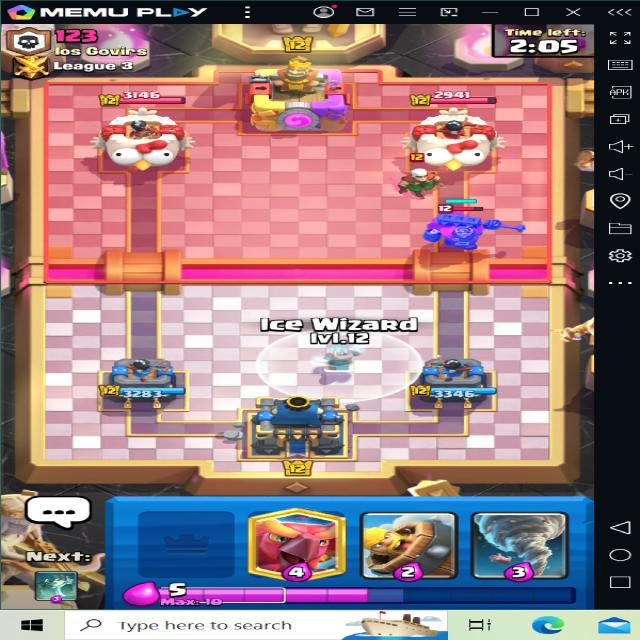Marcher: (372, 153, 451, 204)
skellyking: (407, 201, 532, 275)
